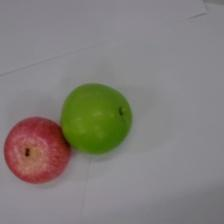green: (60, 82, 133, 155)
red: (3, 115, 72, 184)
